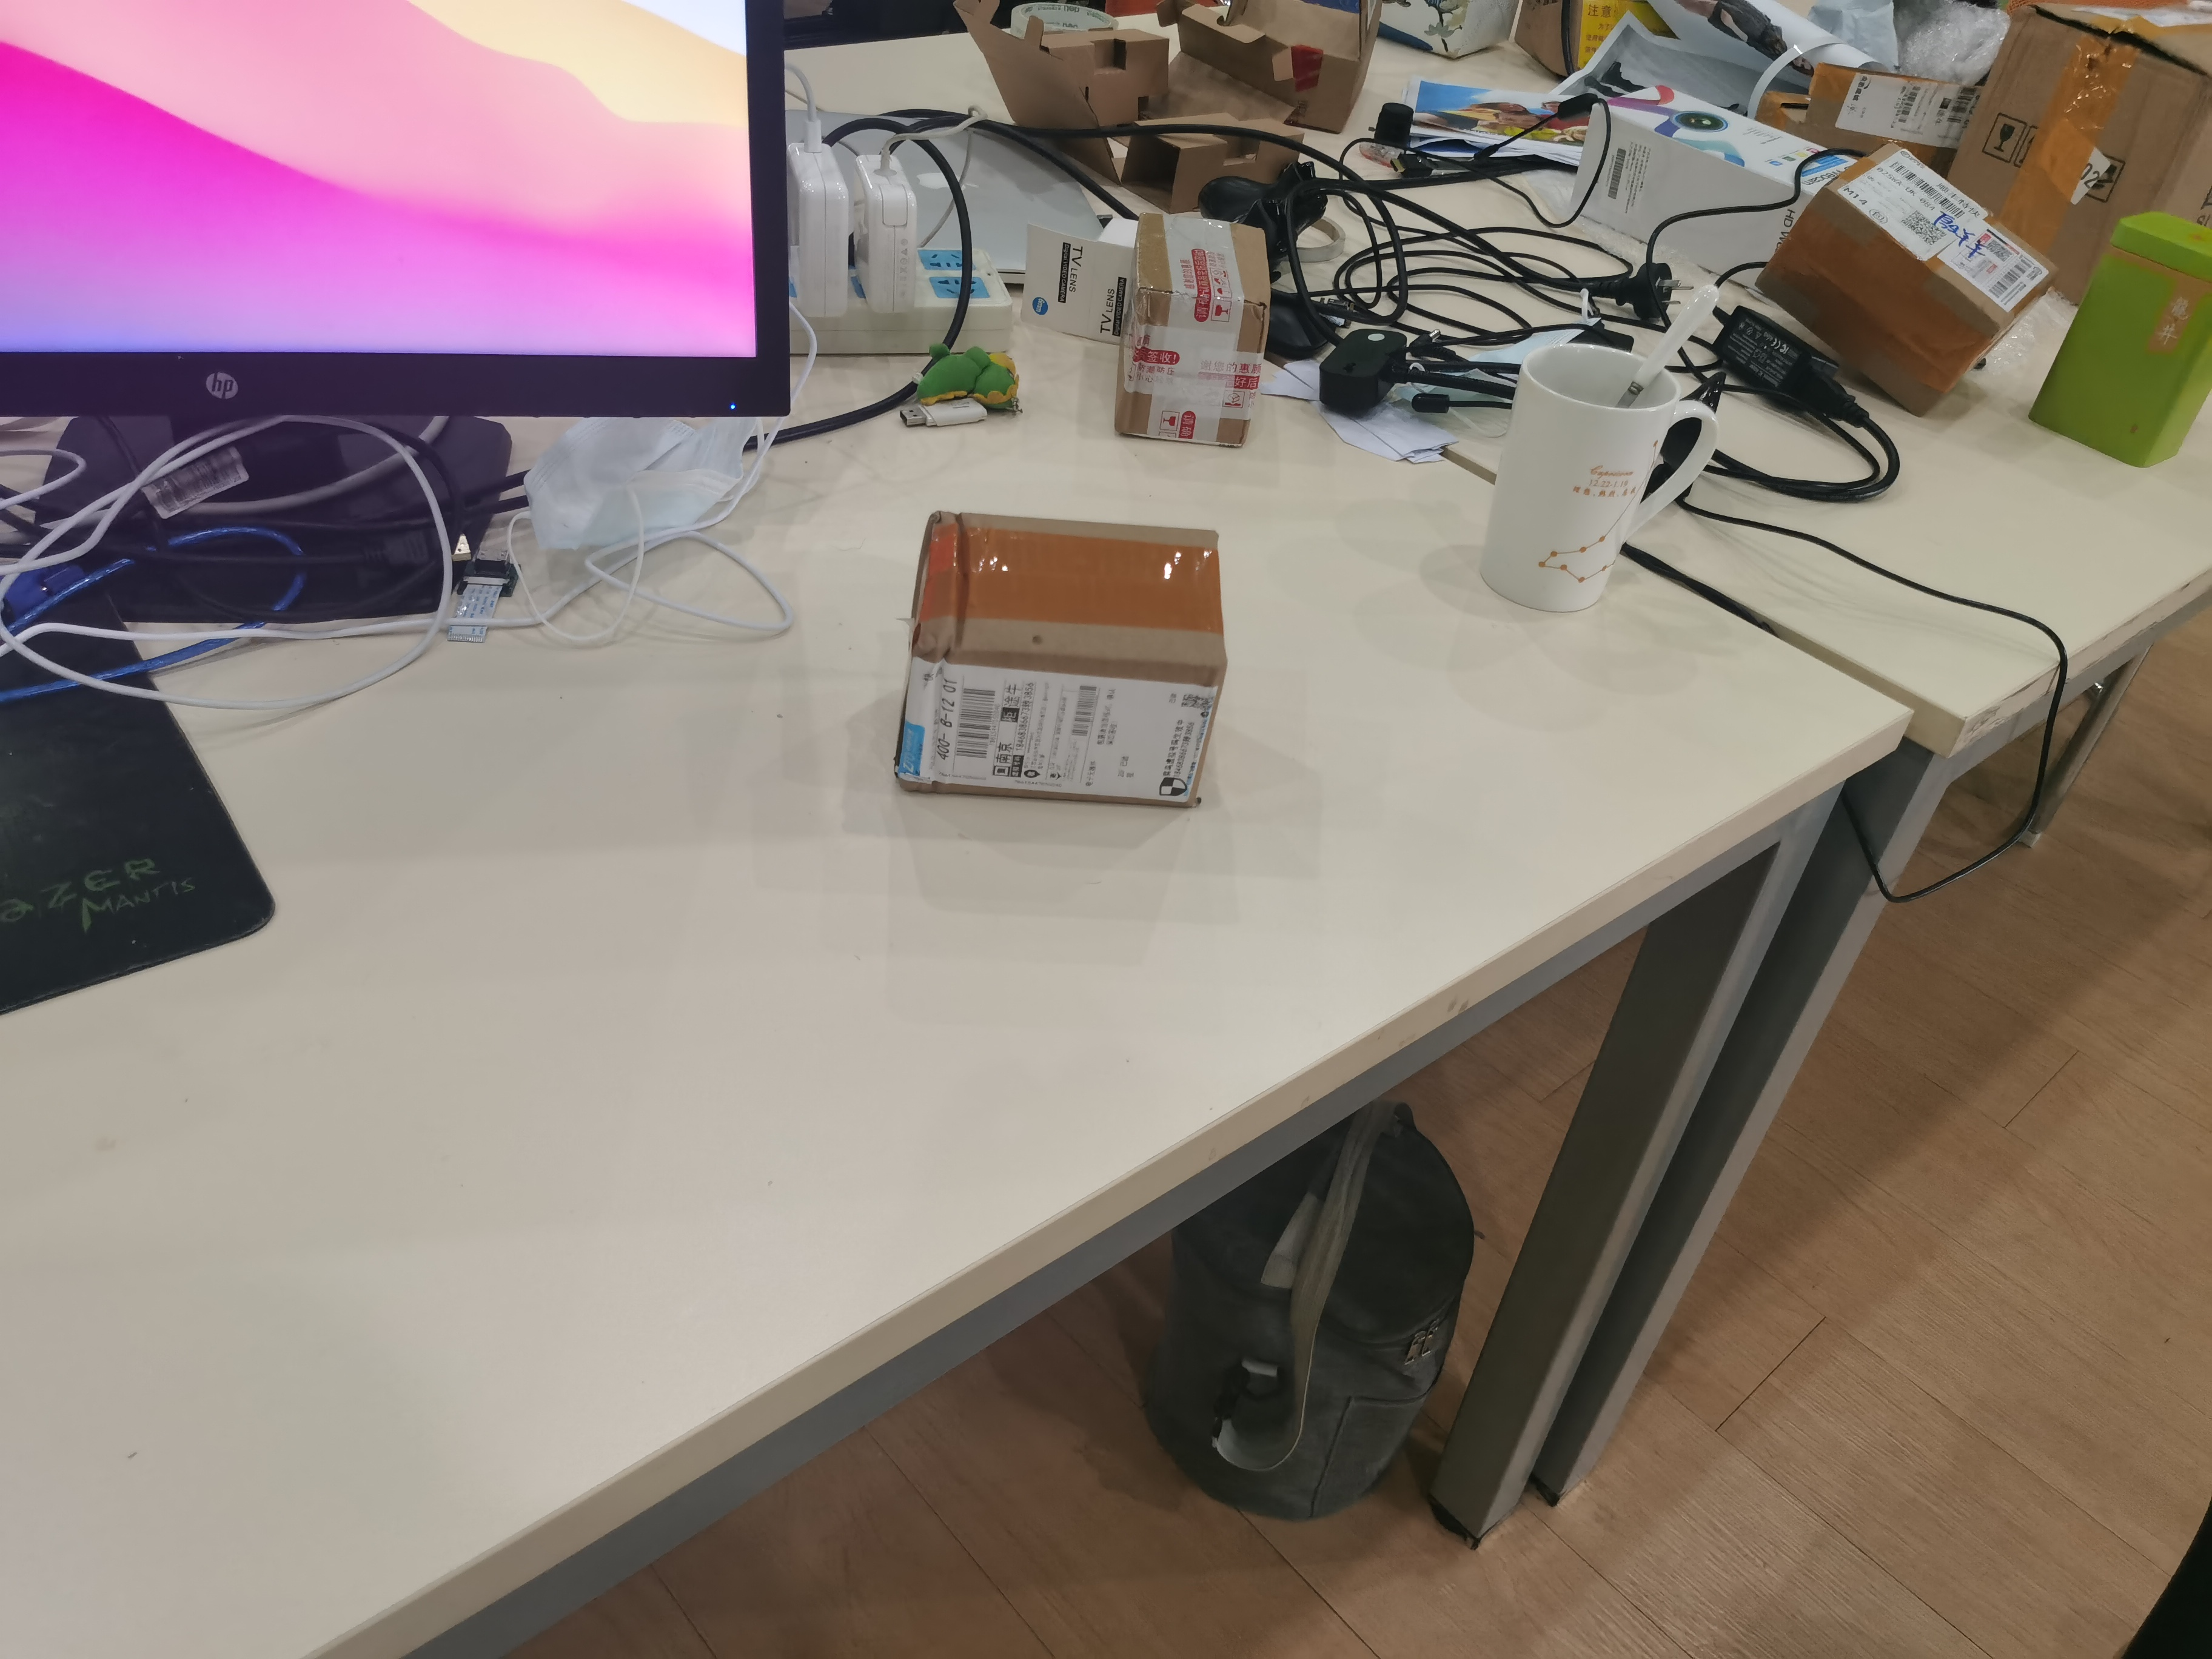box: (888, 495, 1233, 812), (1757, 146, 2045, 413), (1116, 202, 1277, 465)
